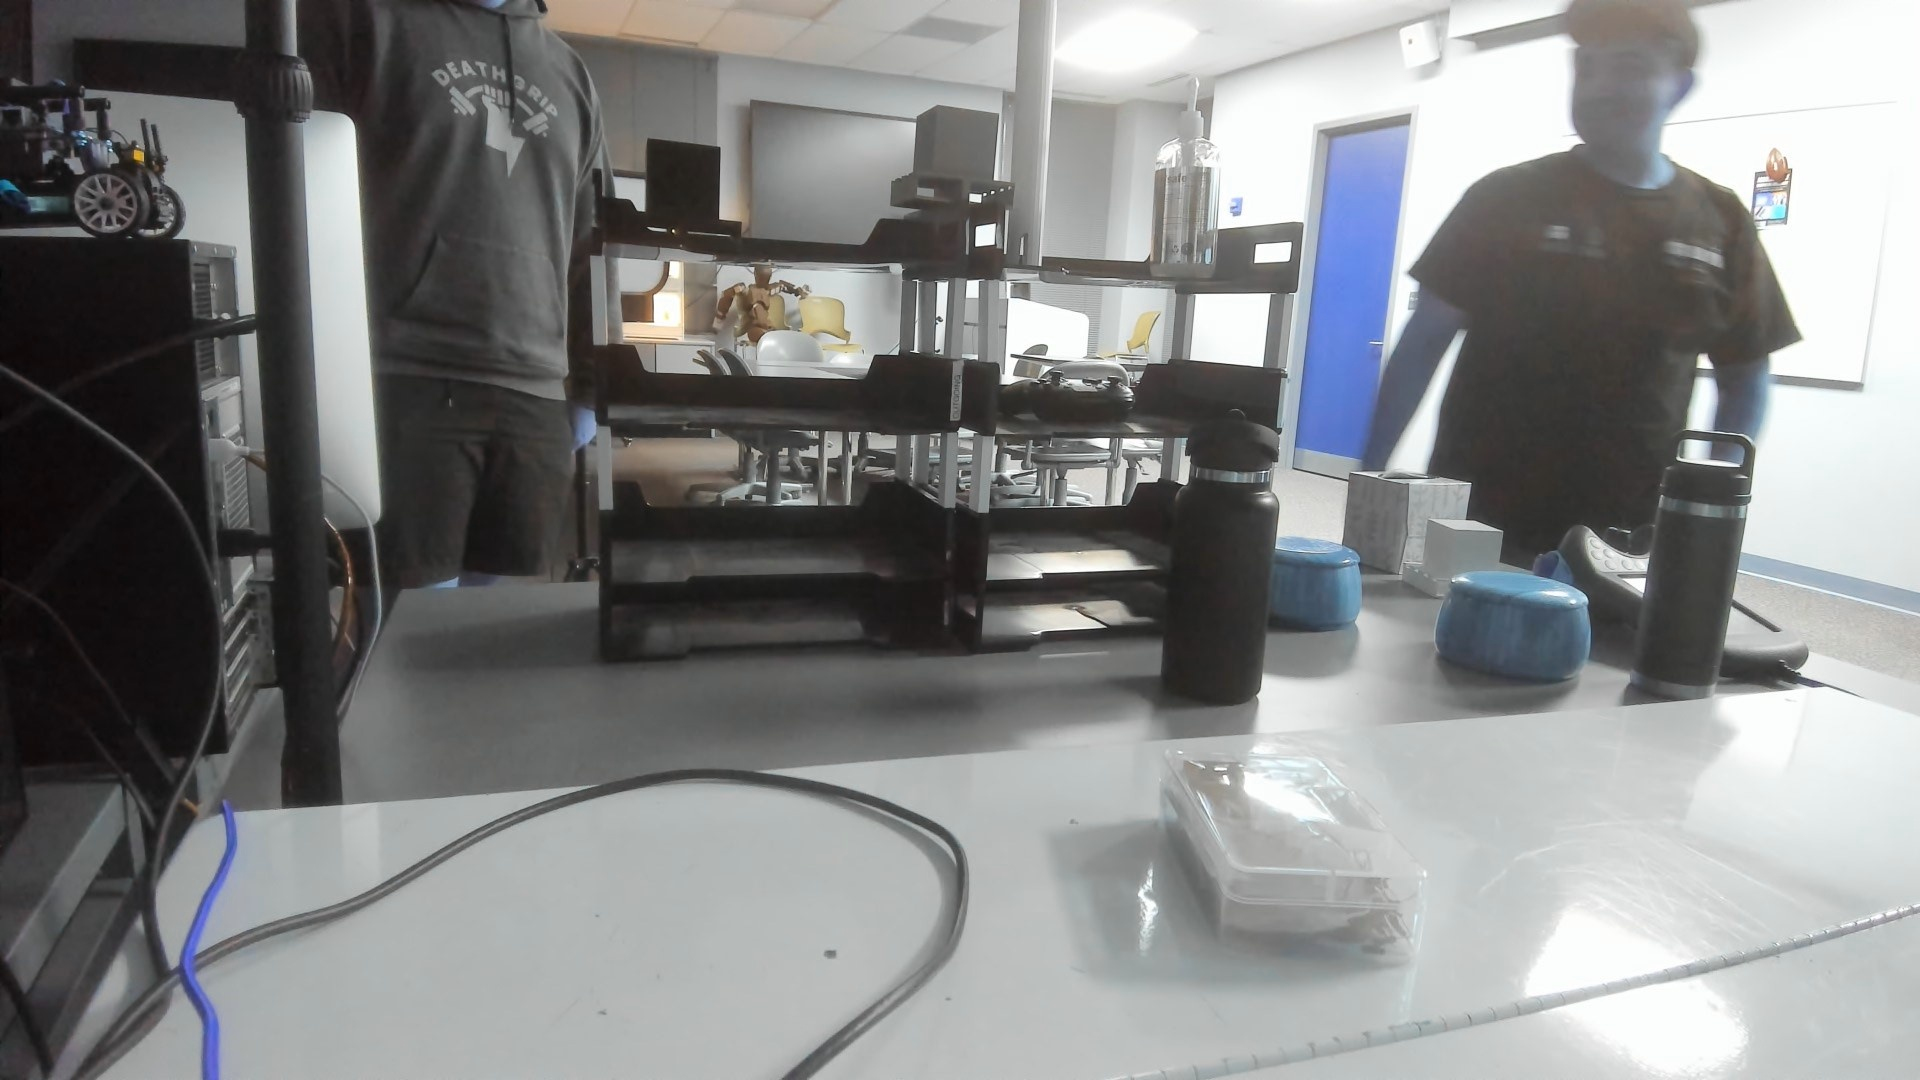black pallet: (628, 137, 749, 244)
grey pallet: (887, 104, 1022, 218)
white pallet: (1399, 512, 1513, 603)
